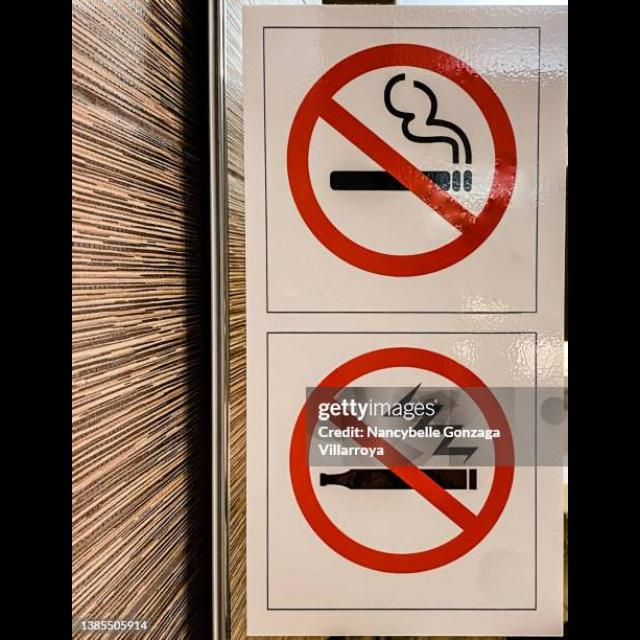cam hut thuoc: (246, 6, 564, 315)
